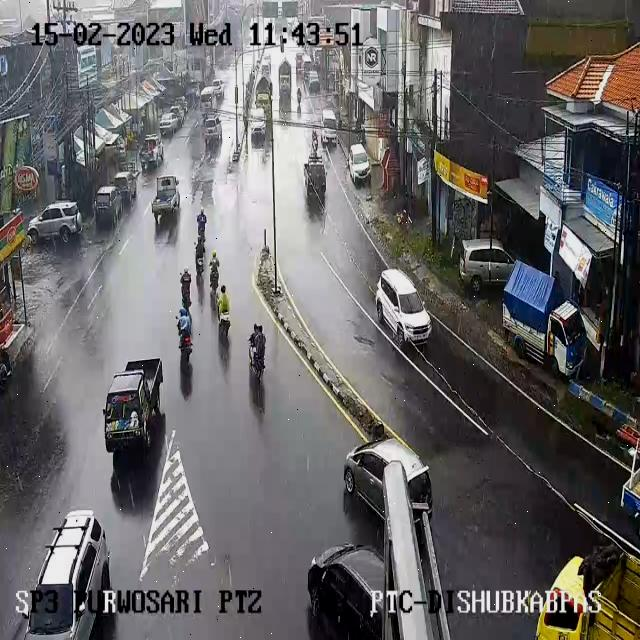Car: (26, 512, 111, 637), (344, 438, 433, 520), (304, 544, 386, 622), (106, 357, 165, 456), (374, 268, 432, 348), (460, 236, 516, 293), (27, 202, 82, 246), (93, 186, 126, 227), (152, 175, 180, 216), (348, 143, 370, 184), (113, 171, 138, 203), (140, 135, 164, 168), (202, 114, 222, 144), (321, 109, 338, 143), (158, 112, 180, 135), (200, 86, 221, 110), (250, 120, 266, 143), (170, 105, 187, 126), (306, 72, 320, 93), (211, 79, 225, 97), (302, 54, 312, 78), (260, 58, 270, 77)
Motorbike: (248, 321, 268, 379), (176, 309, 192, 352), (217, 286, 230, 322), (180, 270, 192, 304), (209, 253, 220, 287), (195, 240, 205, 271), (196, 209, 206, 234), (312, 130, 318, 152), (296, 88, 302, 107)
Truck: (533, 544, 637, 640), (505, 258, 584, 376), (304, 161, 326, 197), (256, 82, 272, 114), (278, 63, 292, 98)
